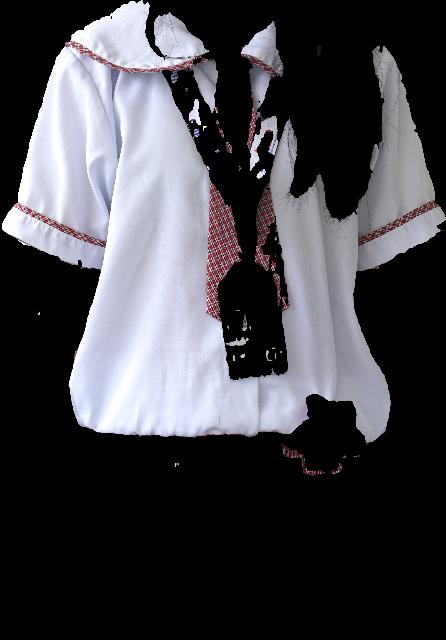pologirl: (3, 0, 445, 445)
